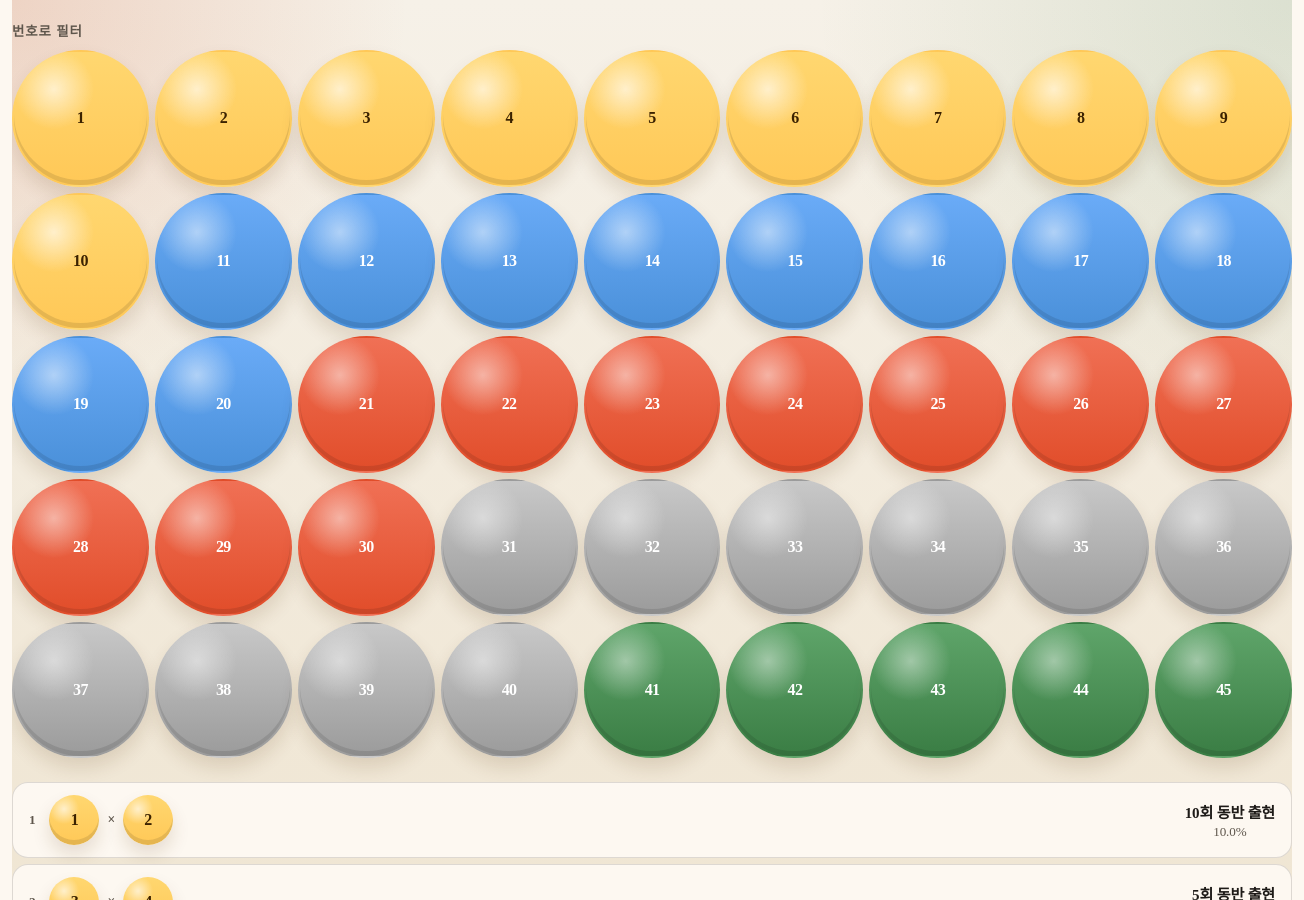
Scenario: 동반 출현 필터 › 필터 해제 시 초기 목록으로 돌아간다
Click the button "7". click: click(938, 118)
box: [869,50,1006,187]
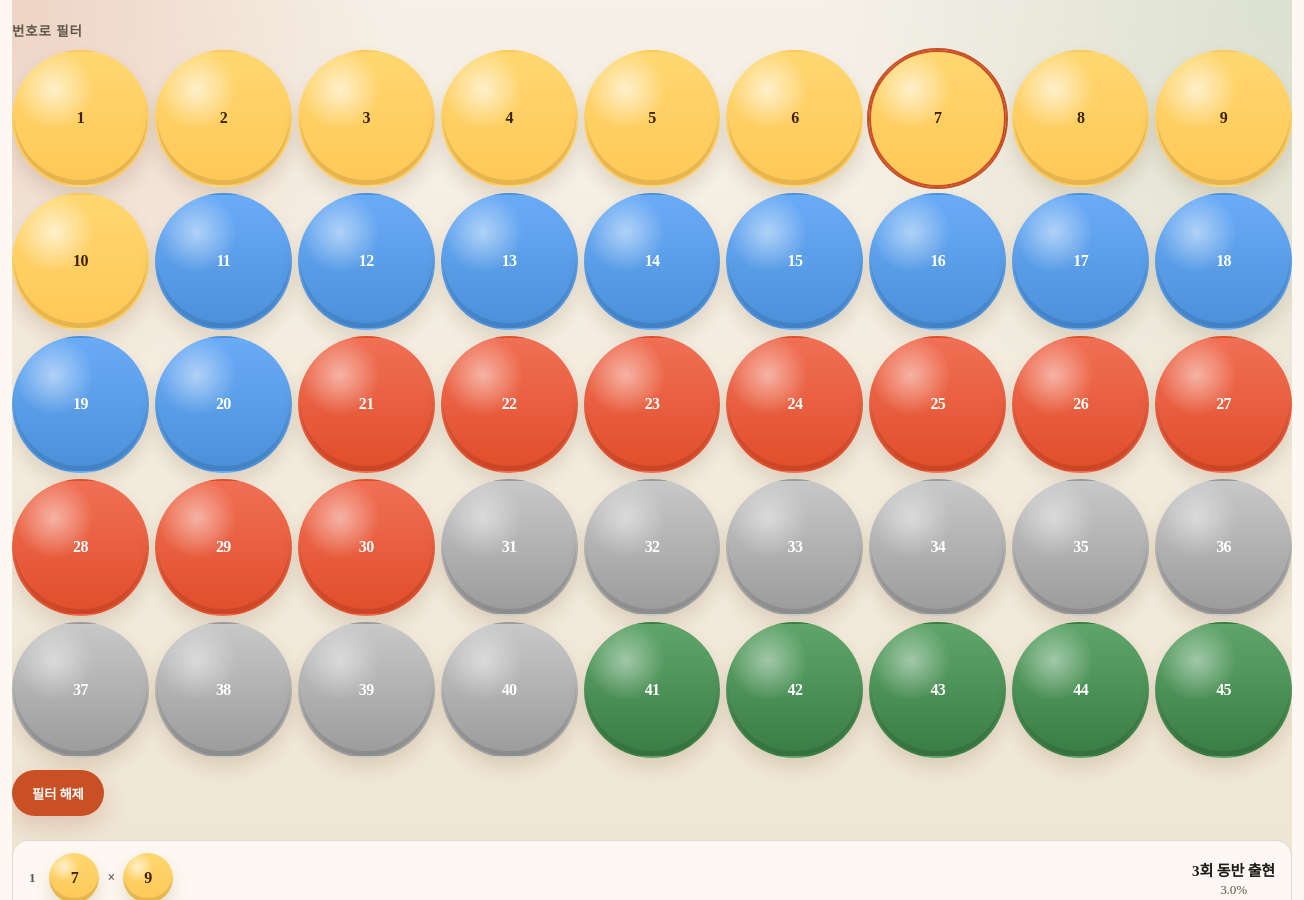
Expected: the text "3회 동반 출현" is shown, [1192,859,1275,880]
Click the button "필터 해제". click: click(58, 794)
box: [12,770,104,816]
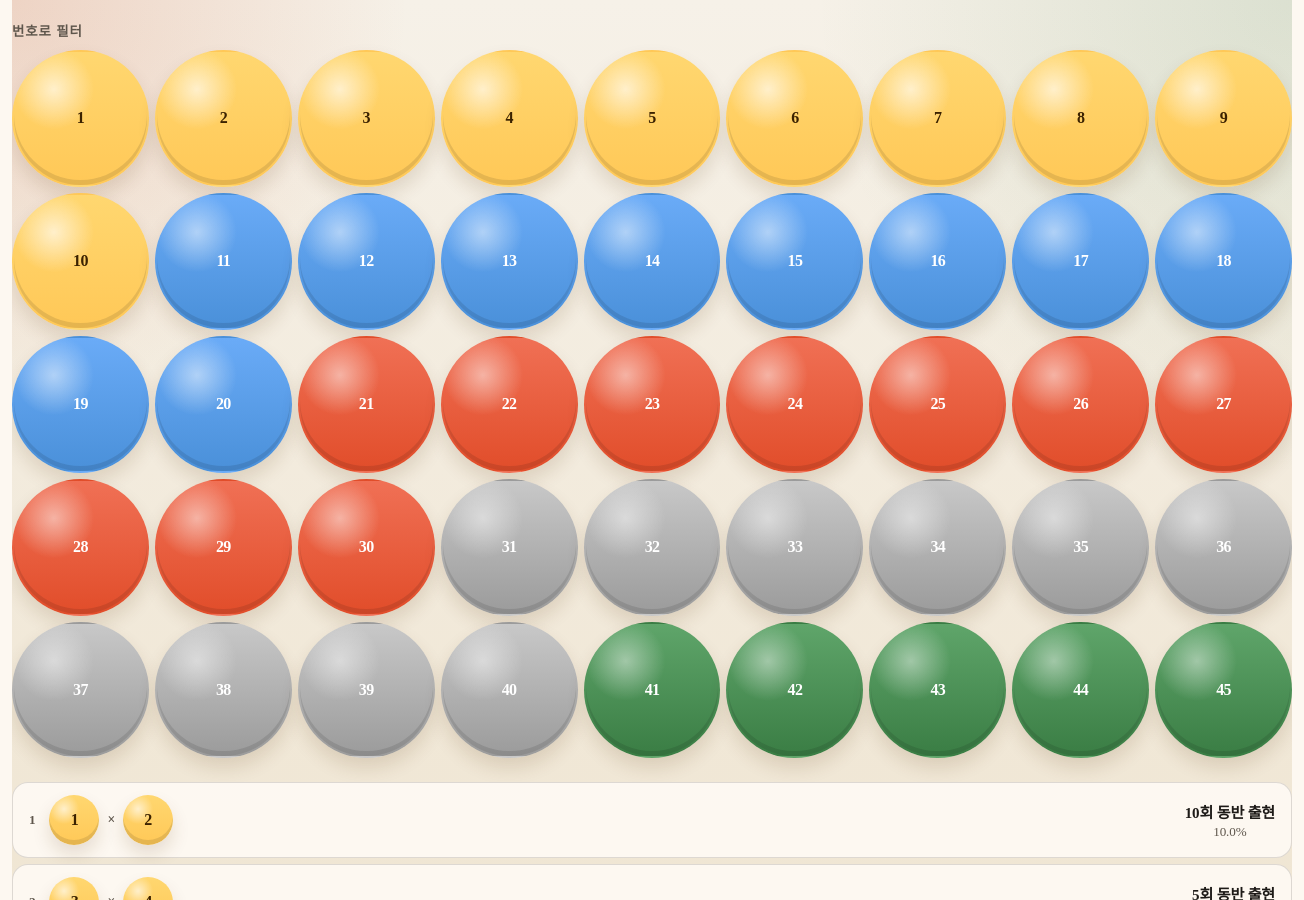
Expected: the text "10회 동반 출현" is shown, [1185,801,1275,822]
Expected: the text "3회 동반 출현" is gone
